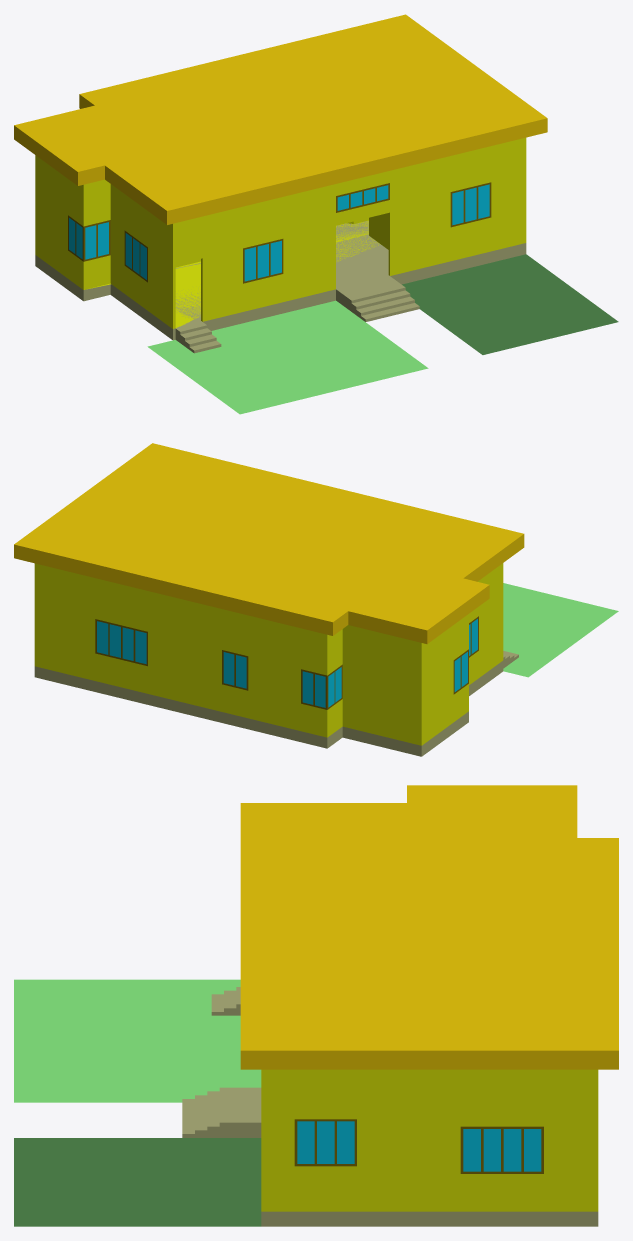
The model's file is HouseForTesting.fbx.
The picture shows the model from 3 angles, top to bottom: view 1: azimuth 30°, elevation 25°; view 2: azimuth 150°, elevation 25°; view 3: azimuth 270°, elevation 25°; orthographic projection. The views are drawn at different scales.
Parts seen in each view (by area): view 1: Roof, HouseFacade, FlatGarden, DenseGarden, Plinth; view 2: Roof, HouseFacade, FlatGarden, Plinth; view 3: Roof, HouseFacade, FlatGarden, DenseGarden, Plinth, polySurface31, polySurface29, polySurface27, polySurface33, polySurface25, polySurface23, polySurface21.
Boxes of the visible parts, x1,y1,x2,y2 form: Roof: (14, 14, 547, 224); HouseFacade: (35, 137, 526, 328); FlatGarden: (147, 300, 428, 414); DenseGarden: (402, 254, 618, 354); Plinth: (35, 221, 526, 353); Roof: (14, 443, 524, 643); HouseFacade: (34, 563, 503, 745); FlatGarden: (503, 583, 618, 677); Plinth: (34, 651, 518, 756); Roof: (240, 785, 618, 1069); HouseFacade: (261, 1069, 598, 1211); FlatGarden: (14, 979, 261, 1102); DenseGarden: (14, 1138, 261, 1226); Plinth: (182, 987, 598, 1226); polySurface31: (503, 1129, 521, 1171); polySurface29: (483, 1129, 500, 1171); polySurface27: (463, 1129, 480, 1171); polySurface33: (524, 1129, 541, 1171); polySurface25: (337, 1121, 354, 1163); polySurface23: (317, 1121, 334, 1163); polySurface21: (297, 1121, 314, 1163).
Size of what is drawn, in the model's own units: 15.1 by 4.9 by 14.55.
